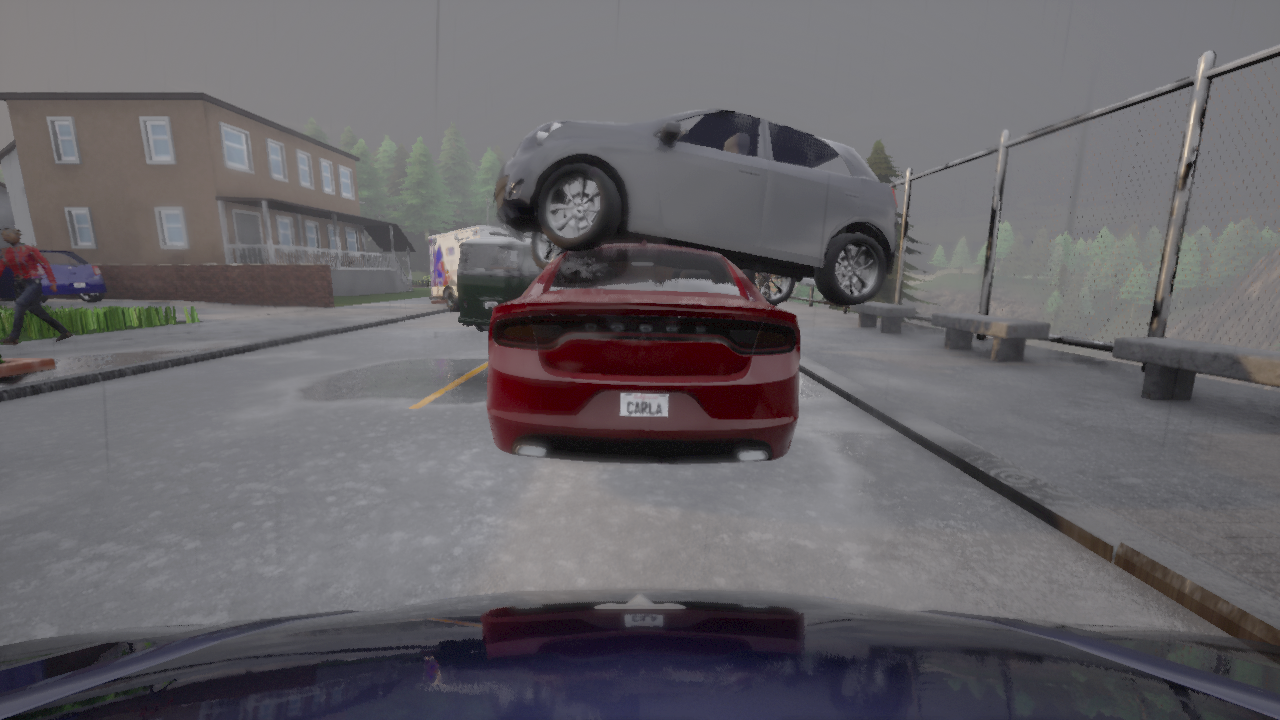cyclist: (0, 588, 1279, 719), (493, 108, 896, 305), (487, 237, 800, 463), (427, 226, 532, 311), (457, 238, 542, 331), (0, 249, 106, 303)
pedestrian: (0, 227, 73, 344)
